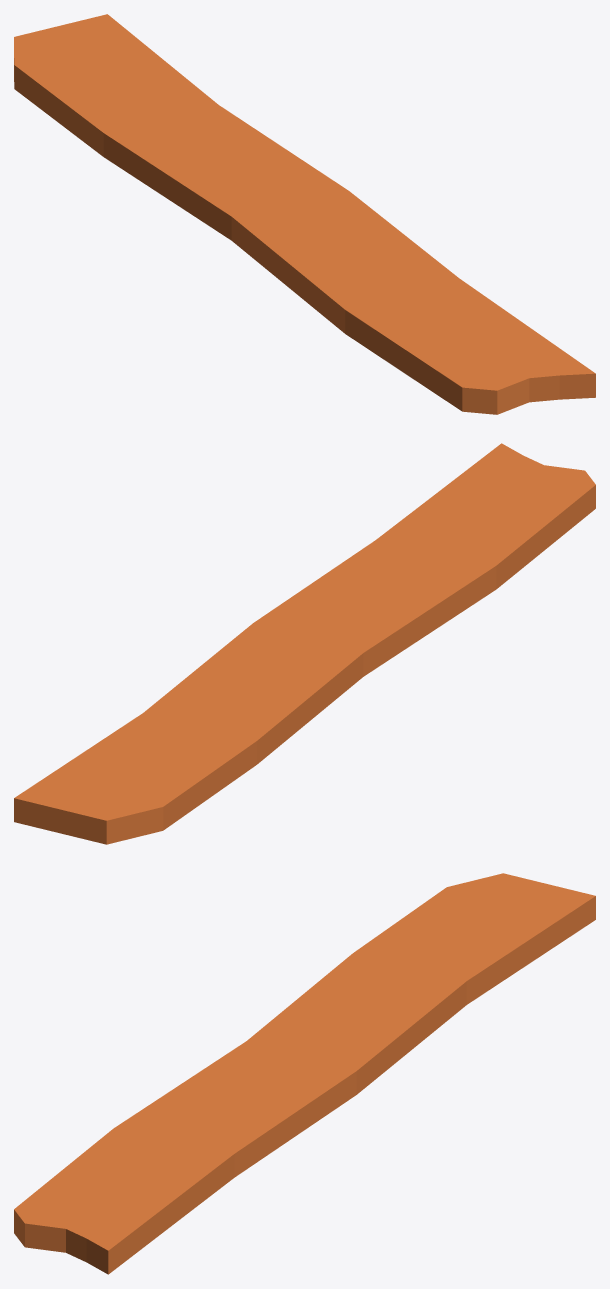
File: Plank.fbx
The picture shows the model from 3 angles, top to bottom: view 1: azimuth 30°, elevation 25°; view 2: azimuth 150°, elevation 25°; view 3: azimuth 330°, elevation 25°; orthographic projection.
Visible parts, largest first — view 1: Plank; view 2: Plank; view 3: Plank.
Boxes of the visible parts, x1,y1,x2,y2 form: Plank: (14, 14, 595, 414); Plank: (14, 443, 595, 844); Plank: (14, 873, 595, 1274).
Size of the model in its own units: 112 by 20.69 by 762.
